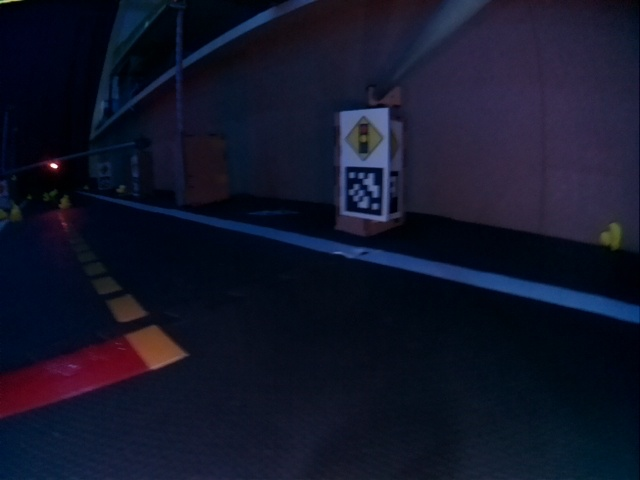Duckie: (600, 222, 621, 250), (12, 209, 22, 220), (60, 199, 70, 209), (117, 186, 125, 192)
QR code: (343, 166, 385, 217)
Signal sign: (345, 115, 385, 162)
